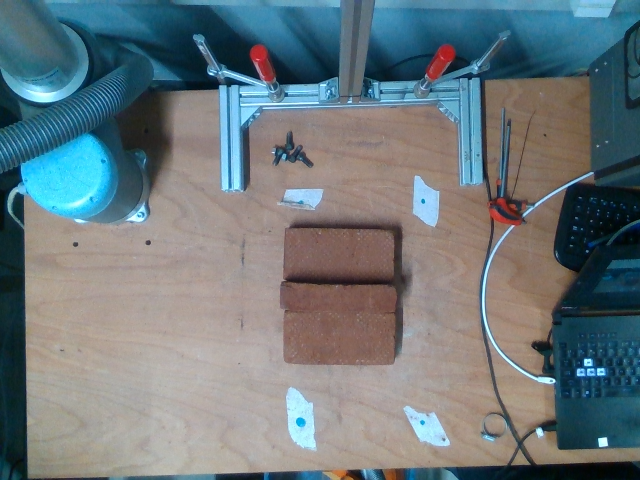brick: (284, 227, 396, 283), (284, 314, 394, 365)
brick-side: (277, 282, 396, 316)
